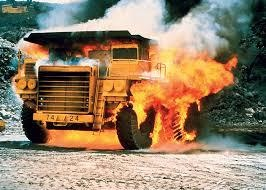fire: (127, 33, 238, 148)
